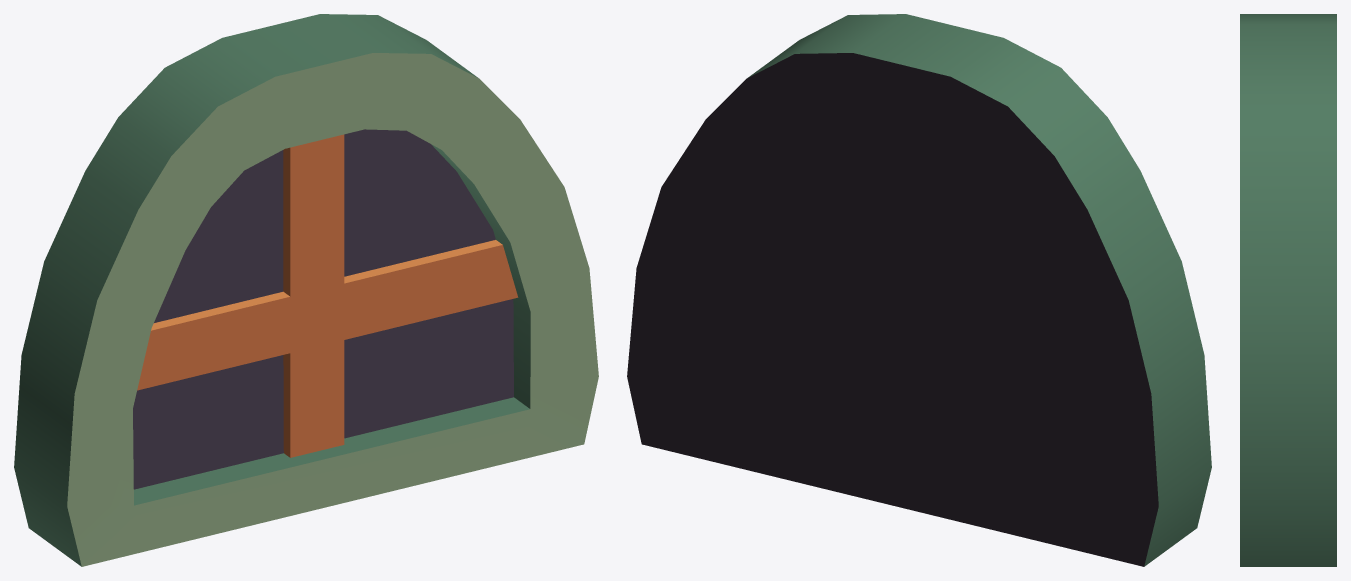
File: Window03_Green_Wood.glb
3 views of the same model, side by side, from view 1: azimuth 30°, elevation 25°; view 2: azimuth 150°, elevation 25°; view 3: azimuth 270°, elevation 25° (orthographic). The views are drawn at different scales.
Parts seen in each view (by area): view 1: Window03_Green_Wood; view 2: Window03_Green_Wood; view 3: Window03_Green_Wood.
Part boxes in pixels (x1,y1,x2,y2): Window03_Green_Wood: (14,14,598,566); Window03_Green_Wood: (627,14,1211,566); Window03_Green_Wood: (1240,14,1336,566).
Bounding box in the file's own units: 0.9047 × 0.7203 × 0.1565.
1 material, 1 textured.
